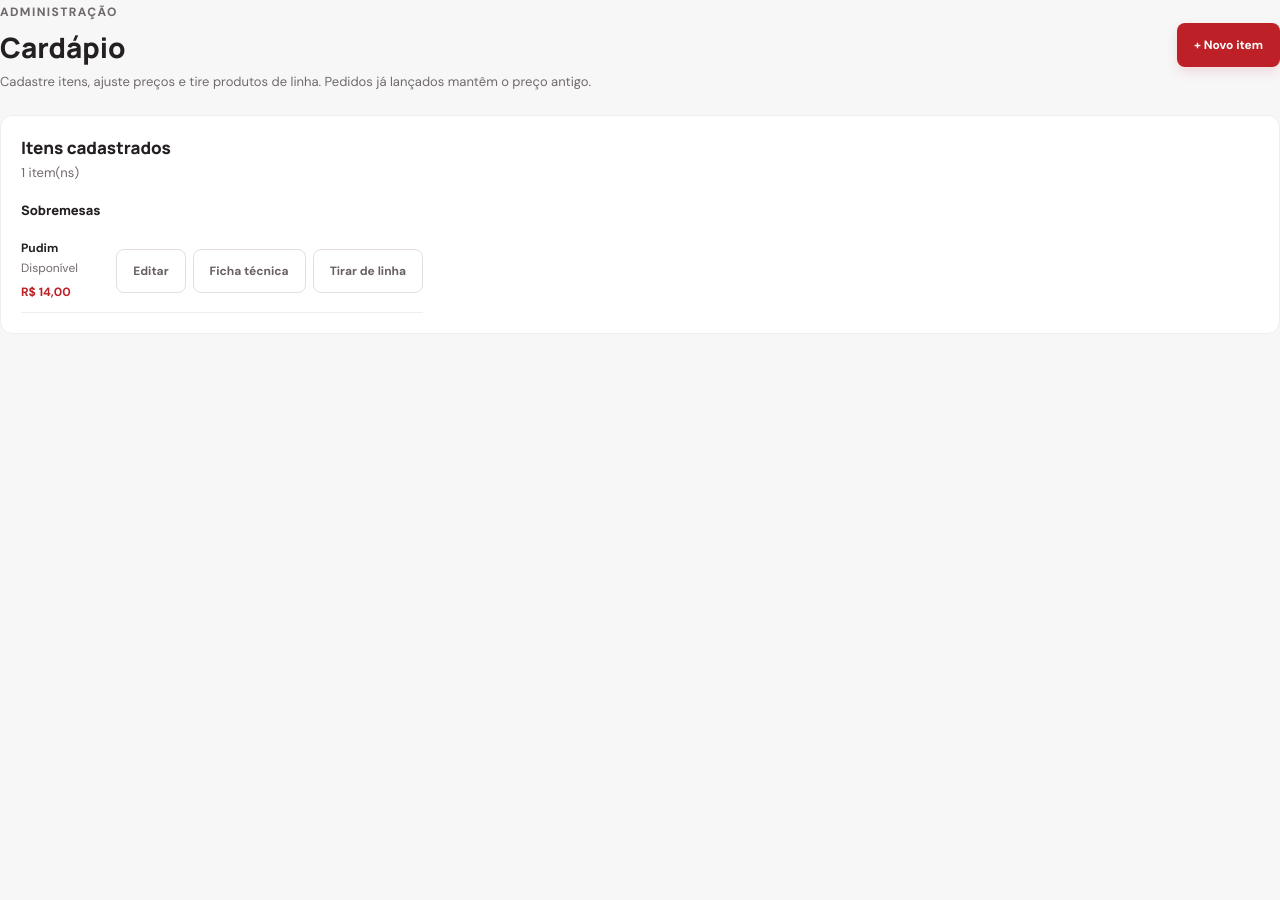
Test: Insumos, ficha técnica e CMV (RN-15) › ficha técnica destaca insumo inativo que já estava nela
The image size is (1280, 900).
Click the button "Ficha técnica" at (249,270), box [192,248,306,292]
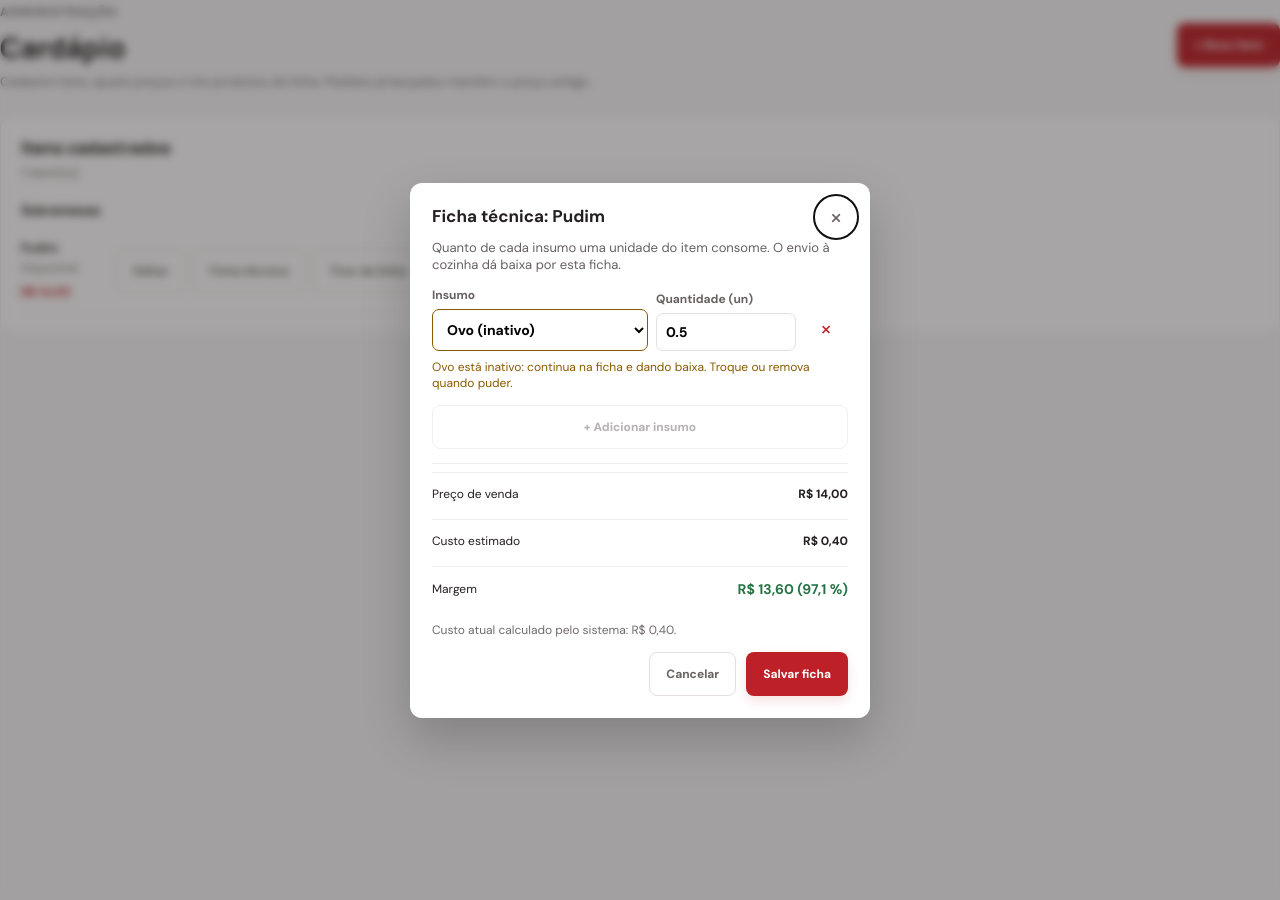
Check: the text "Ovo está inativo: continua na ficha" is shown, box [432,358,848,390]
Check: the text "Custo atual calculado pelo sistema: R$ 0,40." is shown, box [432,622,676,638]
